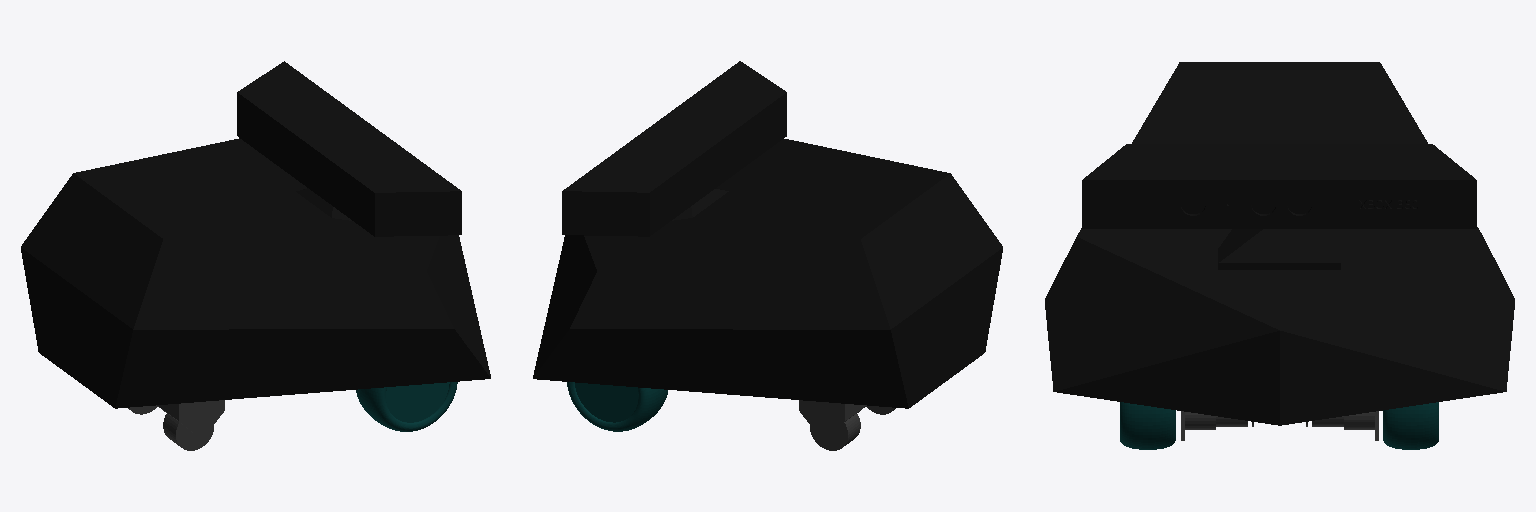
The robot description file, URDF, robot "nox":
<?xml version="1.0"?>
	<robot name="nox">
		<link name="base_link">
			<visual>
				<origin rpy="1.57075 0 -1.57075" xyz="0.095 0.1664 0.05"/>
				<geometry>
					<mesh filename="package://nox_description/meshes/base.STL" scale="0.001 0.001 0.001"/>
				</geometry>
				<material name="black">
       			<color rgba="0.1 0.1 0.1 1"/>
     			</material>
			</visual>
		</link>

		<link name="motor_left">
			<visual>
				<origin rpy="-1.57075 0 0" xyz="-0.02 -0.061 0"/>
				<geometry>
					<mesh filename="package://nox_description/meshes/motor.STL" scale="0.001 0.001 0.001"/>
				</geometry>
				<material name="grey">
       			<color rgba="0.3 0.3 0.3 1"/>
     			</material>
			</visual>
		</link>

		<joint name="base_link_to_motor_left" type="fixed">
			<parent link="base_link"/>
			<child link="motor_left"/>
			<origin xyz="0 0.07 0.059"/>
		</joint>
		
		<link name="motor_right">
			<visual>
				<origin rpy="-1.57075 0 3.14159" xyz="0.02 0.061 0"/>
				<geometry>
					<mesh filename="package://nox_description/meshes/motor.STL" scale="0.001 0.001 0.001"/>
				</geometry>
				<material name="grey"/>
			</visual>
		</link>

		<joint name="base_link_to_motor_right" type="fixed">
			<parent link="base_link"/>
			<child link="motor_right"/>
			<origin xyz="0 -0.07 0.059"/>
		</joint>
		
		<link name="wheel_left">
			<visual>
				<origin rpy="1.57075 0 0" xyz="-0.04 0.02 -0.04"/>
				<geometry>
					<mesh filename="package://nox_description/meshes/wheel.STL" scale="0.001 0.001 0.001"/>
				</geometry>
				<material name="wheel_color">
       			<color rgba="0.06 0.25 0.25 1"/>
     			</material>
			</visual>
		</link>	
			
		<joint name="motor_left_to_wheel_left" type="continuous">
			<parent link="motor_left"/>
			<child link="wheel_left"/>
			<origin xyz="0 0.023 -0.019"/>
			<axis xyz="0 1 0"/>
		</joint>
		
		<link name="wheel_right">
			<visual>
				<origin rpy="1.57075 0 0" xyz="-0.04 0.02 -0.04"/>
				<geometry>
					<mesh filename="package://nox_description/meshes/wheel.STL" scale="0.001 0.001 0.001"/>
				</geometry>
				<material name="wheel_color"/>
			</visual>
		</link>	
			
		<joint name="motor_right_to_wheel_right" type="continuous">
			<parent link="motor_right"/>
			<child link="wheel_right"/>
			<origin xyz="0 -0.023 -0.019"/>
			<axis xyz="0 1 0"/>
		</joint>
		
		<link name="support_wheel_left">
			<visual>
				<origin rpy="-1.57075 0 1.57075" xyz="-0.021 -0.021 0"/>
				<geometry>
					<mesh filename="package://nox_description/meshes/support_wheel.STL" scale="0.001 0.001 0.001"/>
				</geometry>
				<material name="transparent_grey">
       			<color rgba="0.25 0.25 0.25 0.7"/>
     			</material>
			</visual>
		</link>	
			
		<joint name="base_link_to_support_wheel_left" type="fixed">
			<parent link="base_link"/>
			<child link="support_wheel_left"/>
			<origin xyz="-0.124 0.039 0.05"/>
		</joint>
		
		<link name="support_wheel_right">
			<visual>
				<origin rpy="-1.57075 0 1.57075" xyz="-0.021 -0.021 0"/>
				<geometry>
					<mesh filename="package://nox_description/meshes/support_wheel.STL" scale="0.001 0.001 0.001"/>
				</geometry>
				<material name="transparent_grey"/>
			</visual>
		</link>	
			
		<joint name="base_link_to_support_wheel_right" type="fixed">
			<parent link="base_link"/>
			<child link="support_wheel_right"/>
			<origin xyz="-0.124 -0.039 0.05"/>
		</joint>
		
		<link name="kinect">
			<visual>
				<origin rpy="0 0 1.57075" xyz="0.03 -0.14 0.04"/>
				<geometry>
					<mesh filename="package://nox_description/meshes/kinect_sensor.stl" scale="0.01 0.01 0.01"/>
				</geometry>
				<material name="black"/>
			</visual>
		</link>

		<joint name="base_link_to_kinect" type="continuous">
			<parent link="base_link"/>
			<child link="kinect"/>
			<origin xyz="-0.0065 0 0.139"/>
			<axis xyz="0 1 0"/>
		</joint>	
		
	</robot>

--- Facts derived from the render (not from the file) ---
3 views of the same robot in one strip: view 1: azimuth 30°, elevation 25°; view 2: azimuth 150°, elevation 25°; view 3: azimuth 270°, elevation 25° (orthographic).
Model nox with 8 links and 7 joints (3 continuous, 4 fixed), rooted at base_link, posed all joints at 0.
Links seen in each view (by area): view 1: base_link, kinect, wheel_right, support_wheel_right; view 2: base_link, kinect, wheel_left, support_wheel_left; view 3: base_link, kinect, wheel_right, wheel_left, motor_left, motor_right.
Boxes of the visible links, x1,y1,x2,y2 form: base_link: (21, 138, 490, 408); kinect: (237, 61, 461, 236); wheel_right: (356, 382, 457, 431); support_wheel_right: (157, 400, 224, 450); base_link: (533, 139, 1002, 408); kinect: (562, 61, 786, 236); wheel_left: (567, 382, 667, 431); support_wheel_left: (799, 400, 866, 450); base_link: (1045, 62, 1514, 425); kinect: (1082, 144, 1476, 269); wheel_right: (1120, 402, 1175, 449); wheel_left: (1383, 402, 1438, 449); motor_left: (1306, 411, 1378, 440); motor_right: (1181, 411, 1253, 440).
Size in the robot's own frame: 0.34 by 0.3328 by 0.2171 metres.
Meshes: 5 distinct files referenced, 8 mesh visuals loaded (5 binary STL).